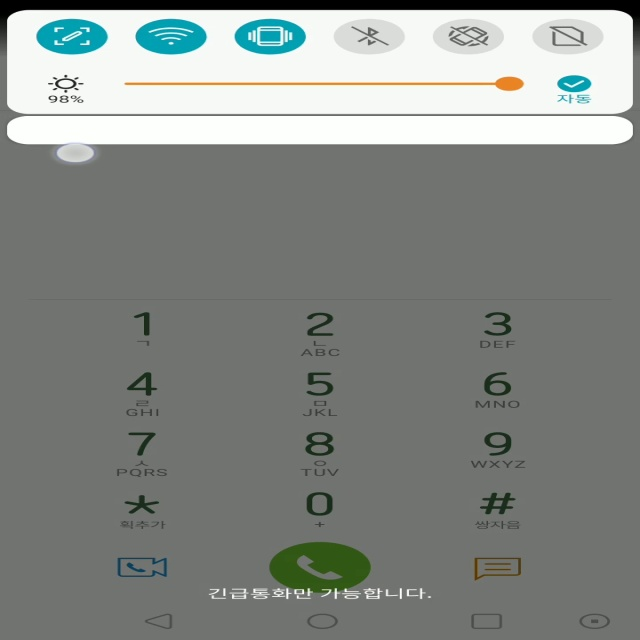Cursor: (54, 143, 98, 165)
